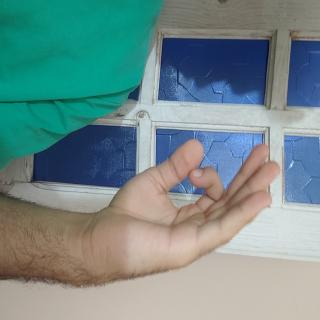Space: (94, 47, 216, 316)
